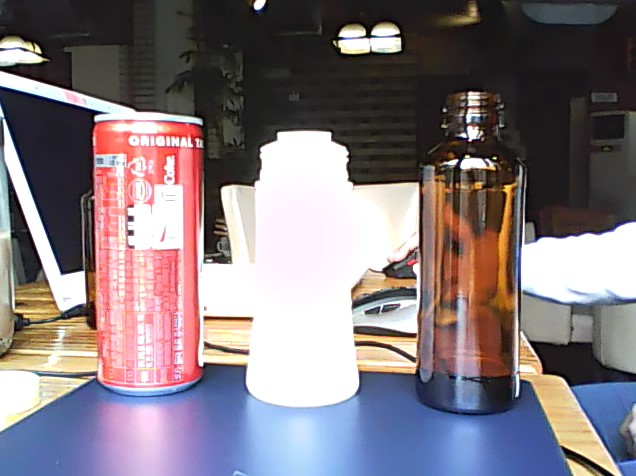Can: (86, 109, 208, 399)
Glass: (413, 86, 526, 417)
Plastic: (243, 131, 362, 410)
